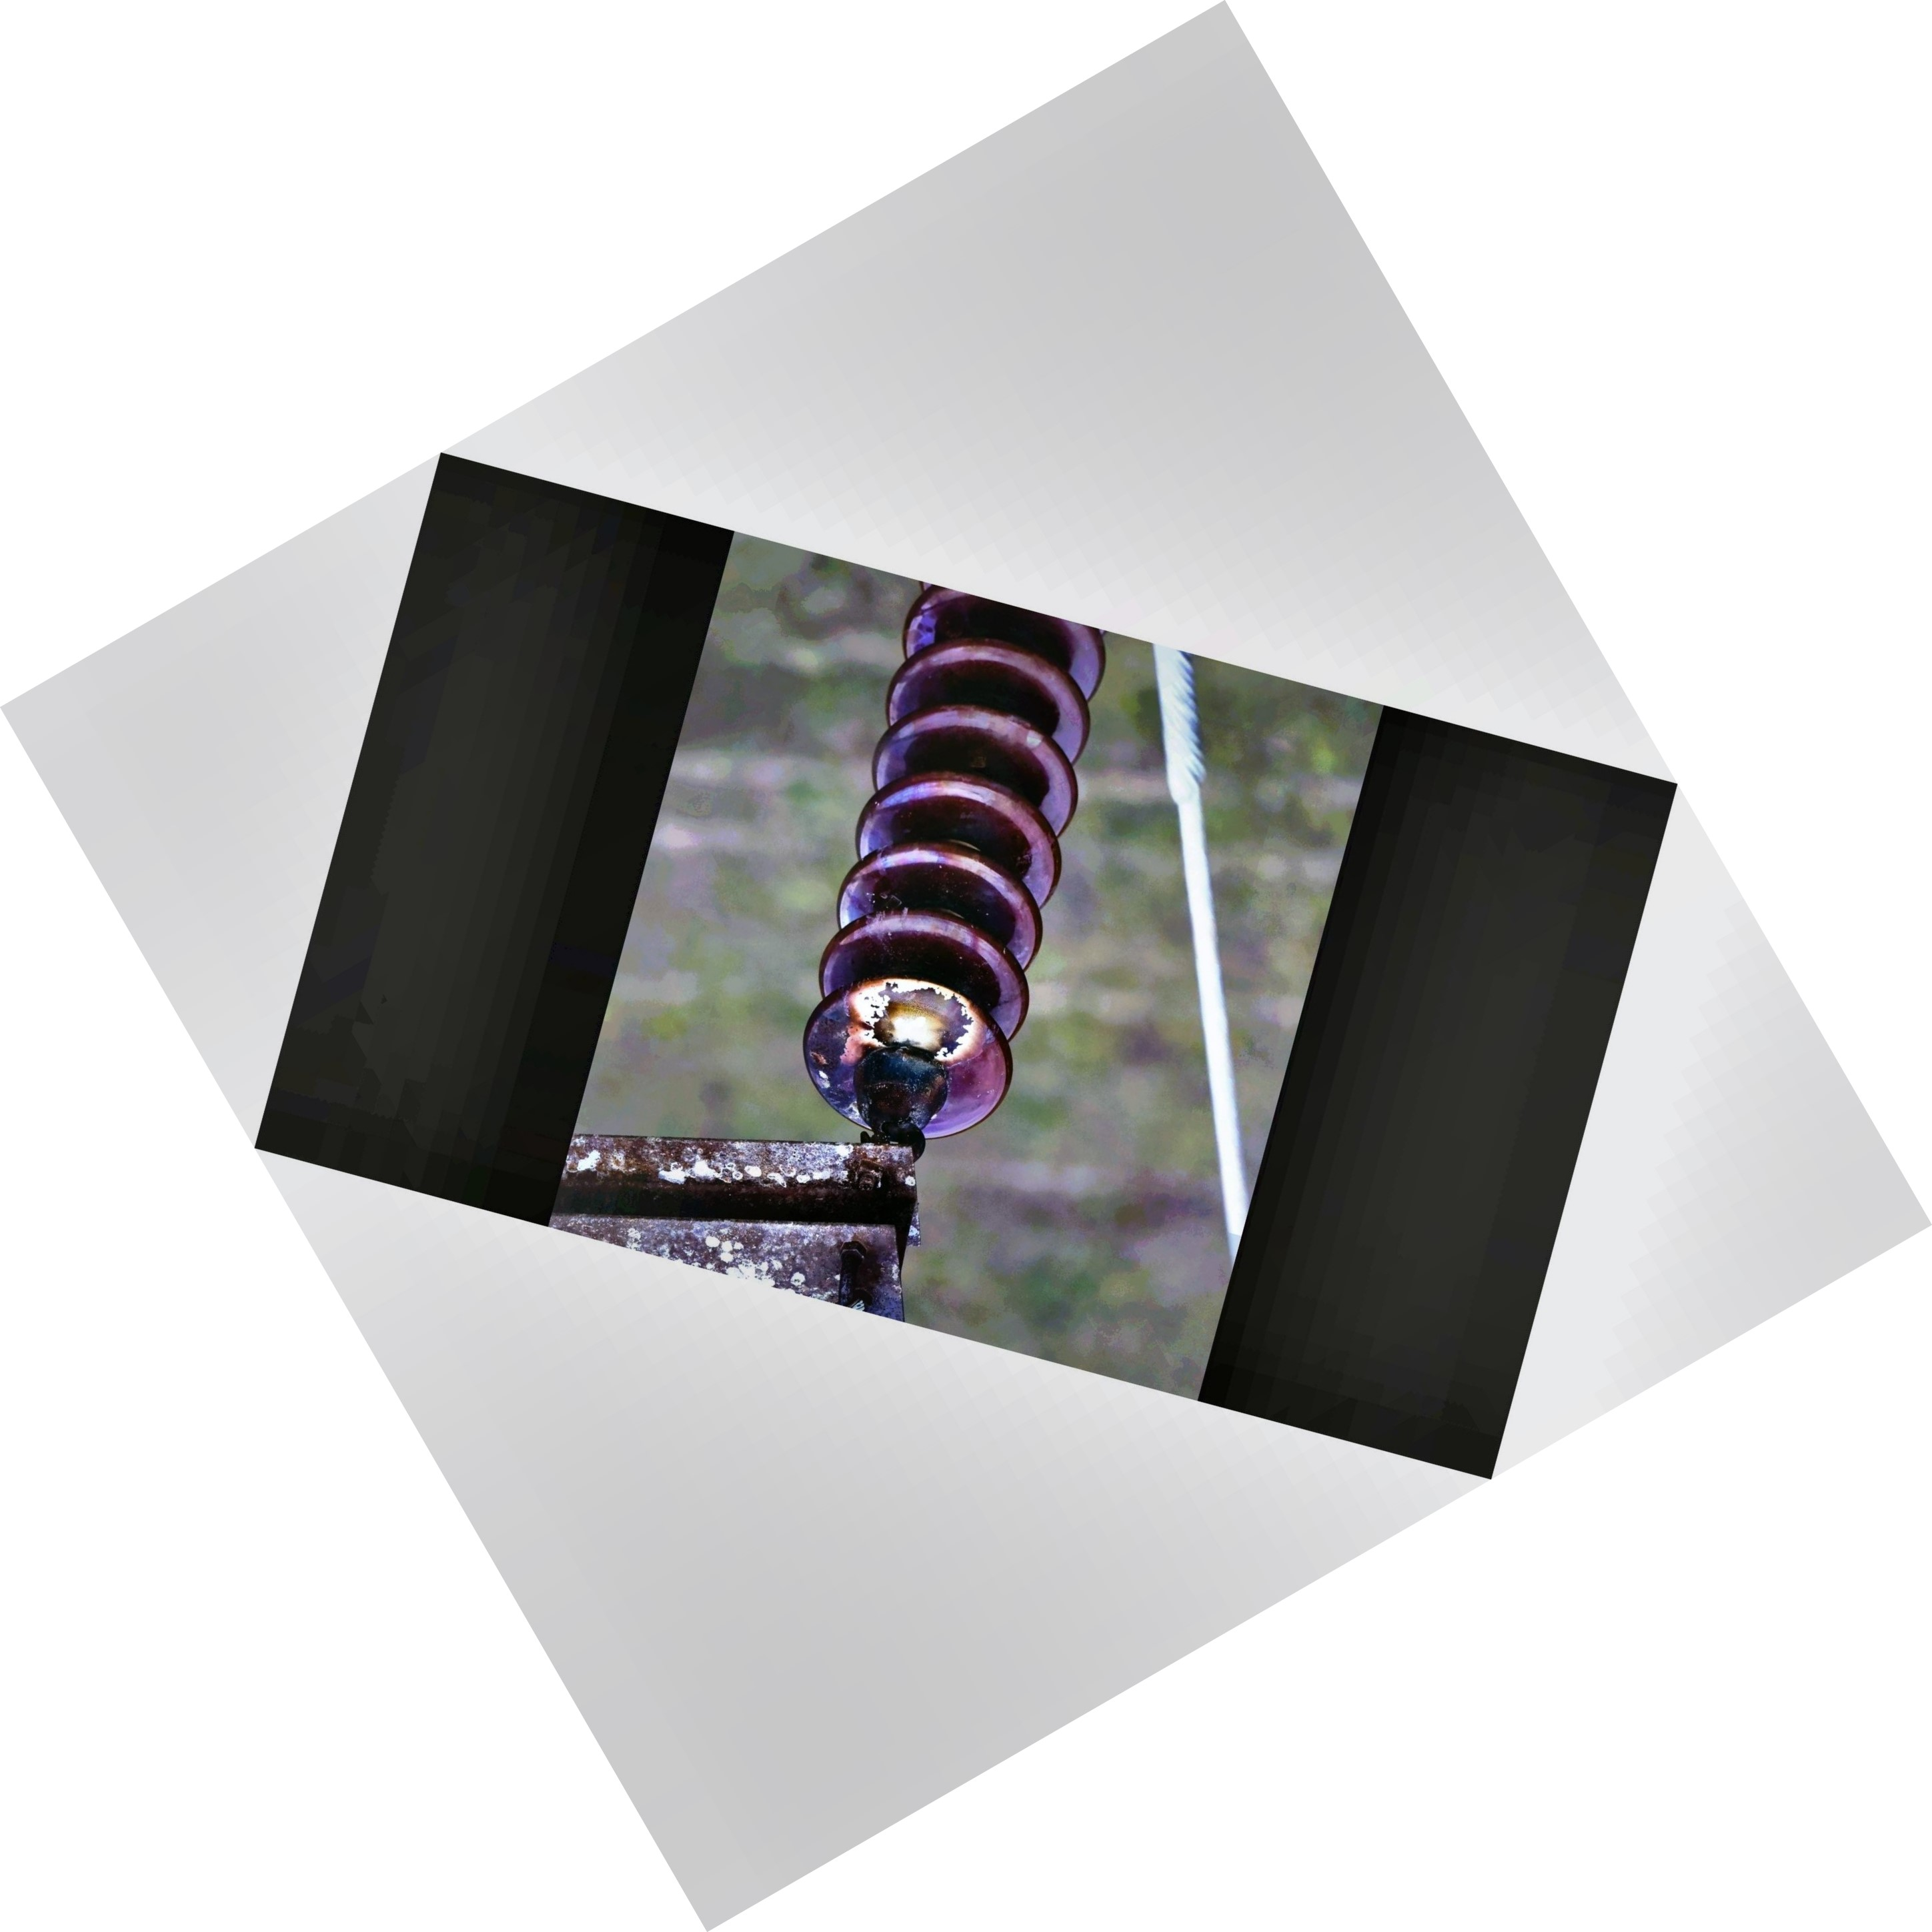Insulator flashover: (778, 962, 1031, 1154)
